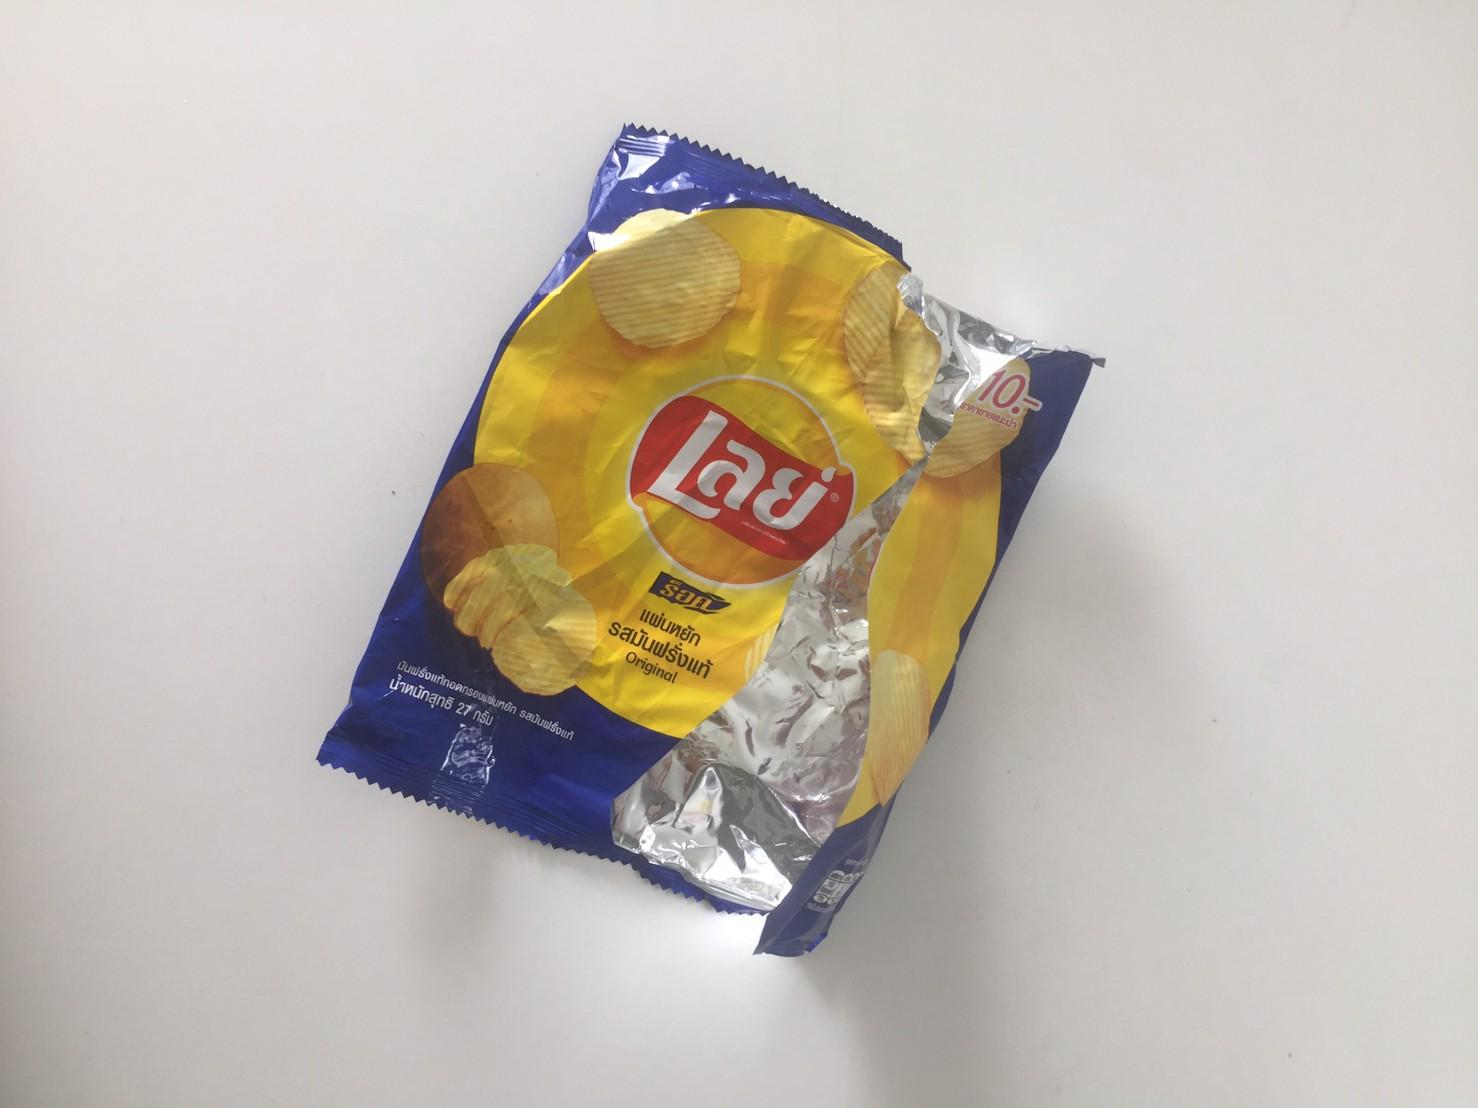plastic: (292, 120, 1116, 983)
